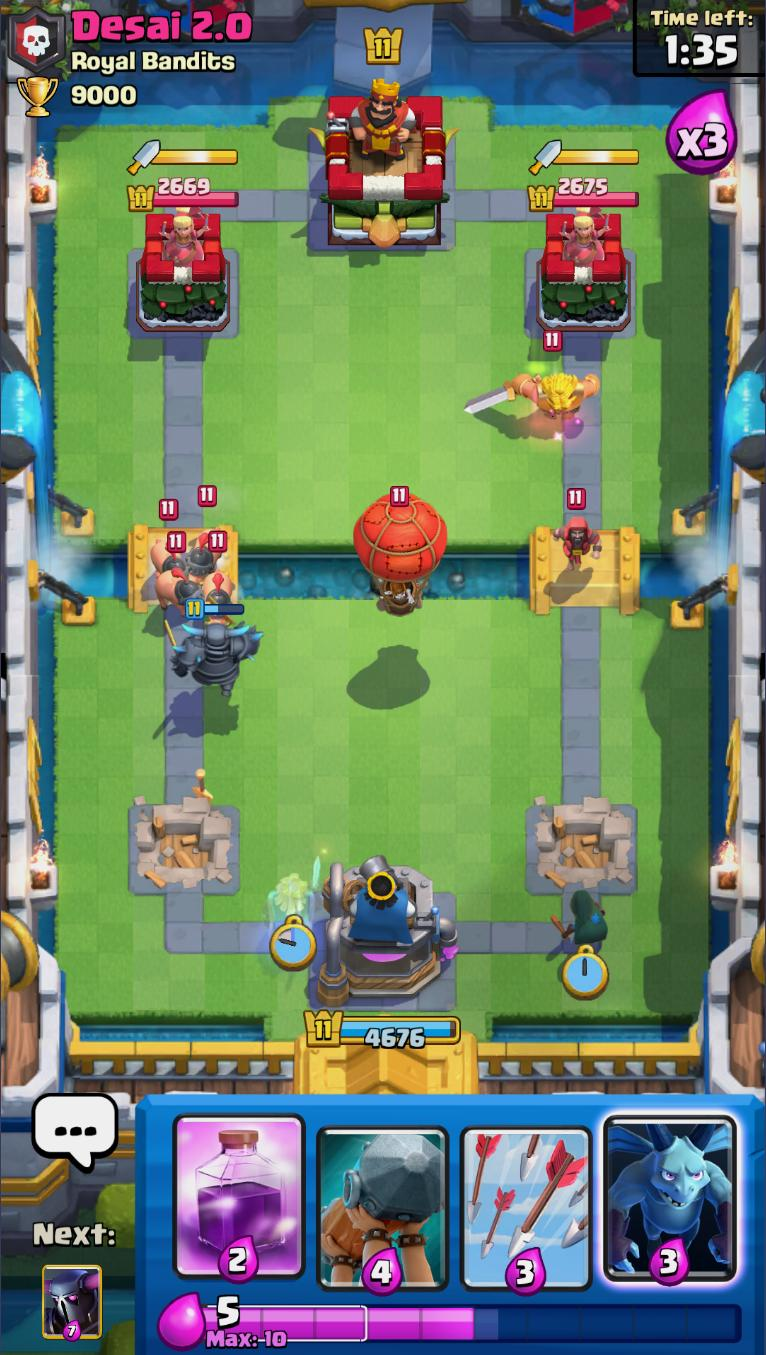Arrows: (455, 1095, 600, 1295)
Balloon: (351, 488, 449, 616)
BattleRamDeck: (310, 1094, 456, 1295)
DaggerDuchess: (559, 208, 613, 268), (158, 208, 210, 265)
Daggers: (127, 139, 240, 175), (530, 140, 642, 176)
Elixir: (200, 1296, 745, 1350)
EnemyTower: (536, 209, 633, 333), (136, 207, 231, 332)
GoldenKnight: (464, 331, 603, 424)
KingTower: (310, 81, 461, 249)
MinionsDeck: (600, 1095, 740, 1295)
MyBandit: (550, 891, 609, 945)
MyKingHP: (304, 1010, 463, 1049)
MyKingTower: (314, 855, 460, 1007)
MyPekka: (164, 599, 266, 699)
MyPrincessTowerBrocken: (524, 800, 640, 898), (129, 801, 243, 896)
MyRoyaleGhost: (266, 854, 324, 934)
PekkaNext: (40, 1264, 105, 1341)
RageDeck: (168, 1094, 311, 1295)
RoyalePig: (152, 531, 202, 619), (184, 485, 229, 580), (198, 530, 236, 625), (150, 499, 185, 574)
TowerPrincessHP: (127, 178, 240, 212), (529, 179, 641, 211)
Wizard: (549, 489, 603, 578)
